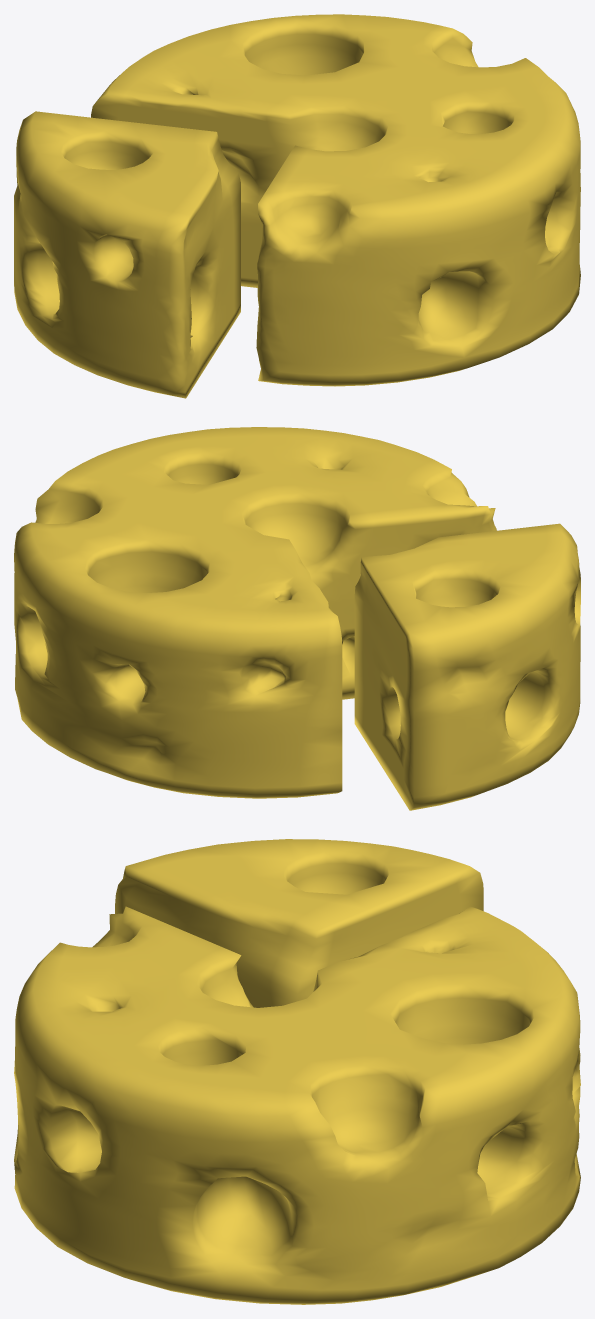
Rendered from Cheese.fbx.
3 renders of one model, top to bottom at view 1: azimuth 30°, elevation 25°; view 2: azimuth 150°, elevation 25°; view 3: azimuth 270°, elevation 25°, orthographic. The views are drawn at different scales.
Parts seen in each view (by area): view 1: Retopo_Cheese.001; view 2: Retopo_Cheese.001; view 3: Retopo_Cheese.001.
Part boxes in pixels (x1,y1,x2,y2): Retopo_Cheese.001: [14, 14, 580, 398]; Retopo_Cheese.001: [14, 427, 580, 810]; Retopo_Cheese.001: [14, 839, 580, 1304].
Bounding box in the file's own units: 8695 × 2942 × 7455.
